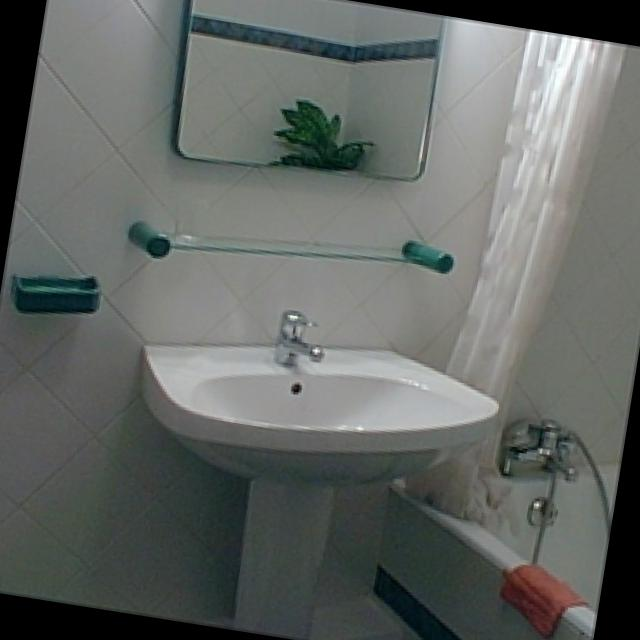bathtub: (378, 459, 607, 640)
mirror crop: (169, 0, 439, 175)
pedestal: (134, 344, 499, 640)
shelf crop: (125, 218, 454, 271)
soapdish: (11, 276, 99, 313)
